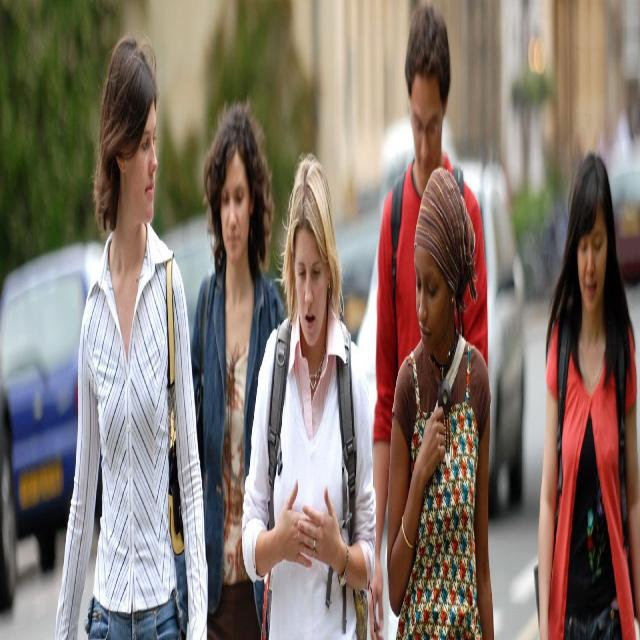body: (54, 29, 211, 640), (366, 0, 492, 639), (240, 150, 378, 640), (378, 151, 500, 639), (532, 145, 640, 639), (189, 96, 286, 640)
